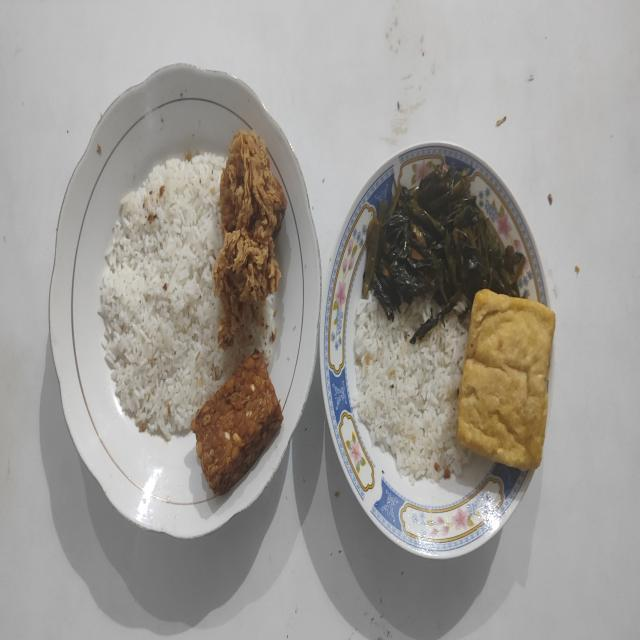nasi_putih: (98, 154, 276, 440), (352, 297, 470, 482)
tahu_goreng: (458, 290, 554, 470)
tempe_goreng: (192, 353, 284, 494)
tumis_kangkung: (362, 166, 524, 341)
